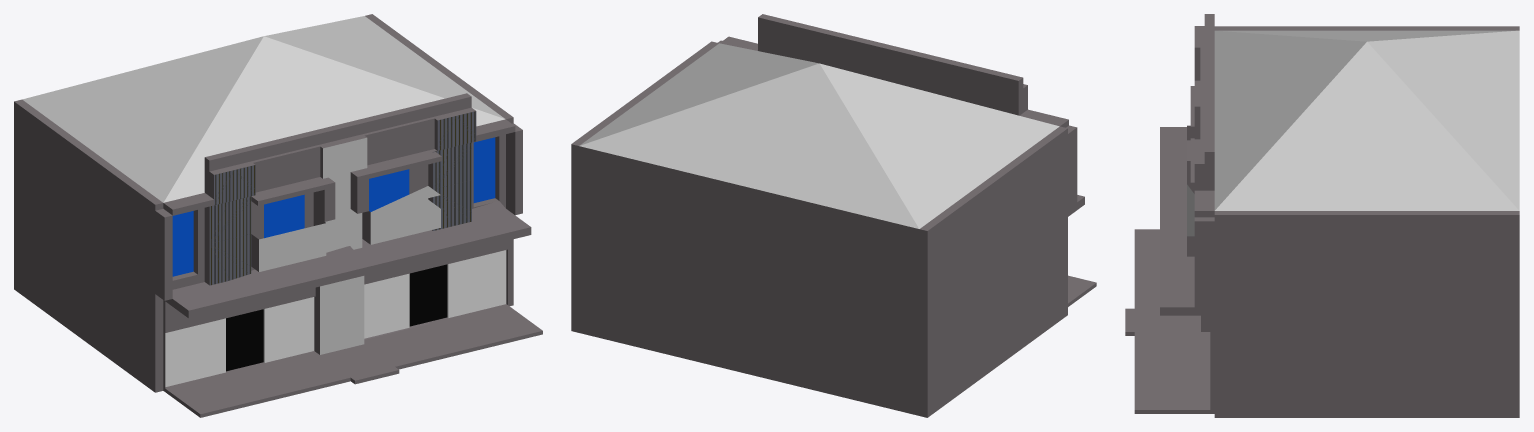
Rendered from ruko1 1.fbx.
The picture shows the model from 3 angles, left to right: view 1: azimuth 30°, elevation 25°; view 2: azimuth 150°, elevation 25°; view 3: azimuth 270°, elevation 25°; orthographic projection. The views are drawn at different scales.
Parts seen in each view (by area): view 1: Cube; view 2: Cube; view 3: Cube.
Boxes of the visible parts, x1,y1,x2,y2 form: Cube: [14, 14, 542, 417]; Cube: [571, 14, 1096, 417]; Cube: [1125, 14, 1519, 417].
Size of the model in its own units: 1519 by 1058 by 1340.
